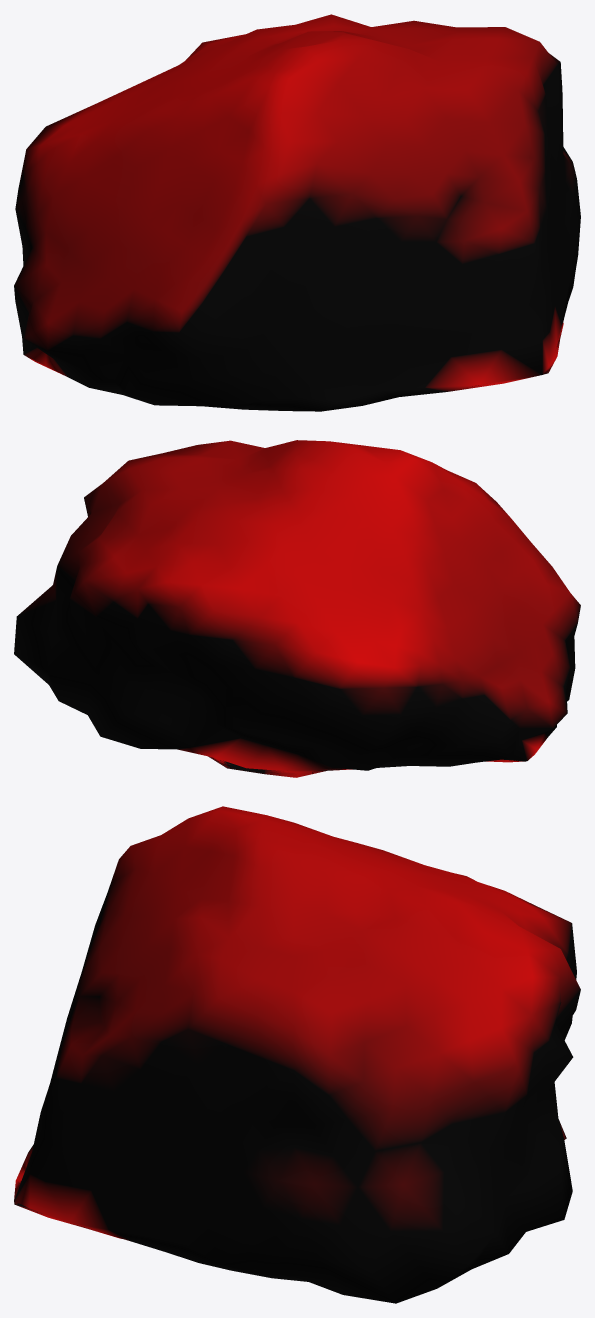
File: rock_b.glb
3 views of the same model, one above another, from view 1: azimuth 30°, elevation 25°; view 2: azimuth 150°, elevation 25°; view 3: azimuth 270°, elevation 25° (orthographic). The views are drawn at different scales.
Parts seen in each view (by area): view 1: rock_b_LOD0; view 2: rock_b_LOD0; view 3: rock_b_LOD0.
Boxes of the visible parts, box(x1,y1,x2,y2) form: rock_b_LOD0: box(14, 14, 580, 411); rock_b_LOD0: box(14, 440, 580, 777); rock_b_LOD0: box(14, 806, 580, 1303).
Size of what is drawn, in the model's own units: 1.42 by 0.6544 by 1.08.
